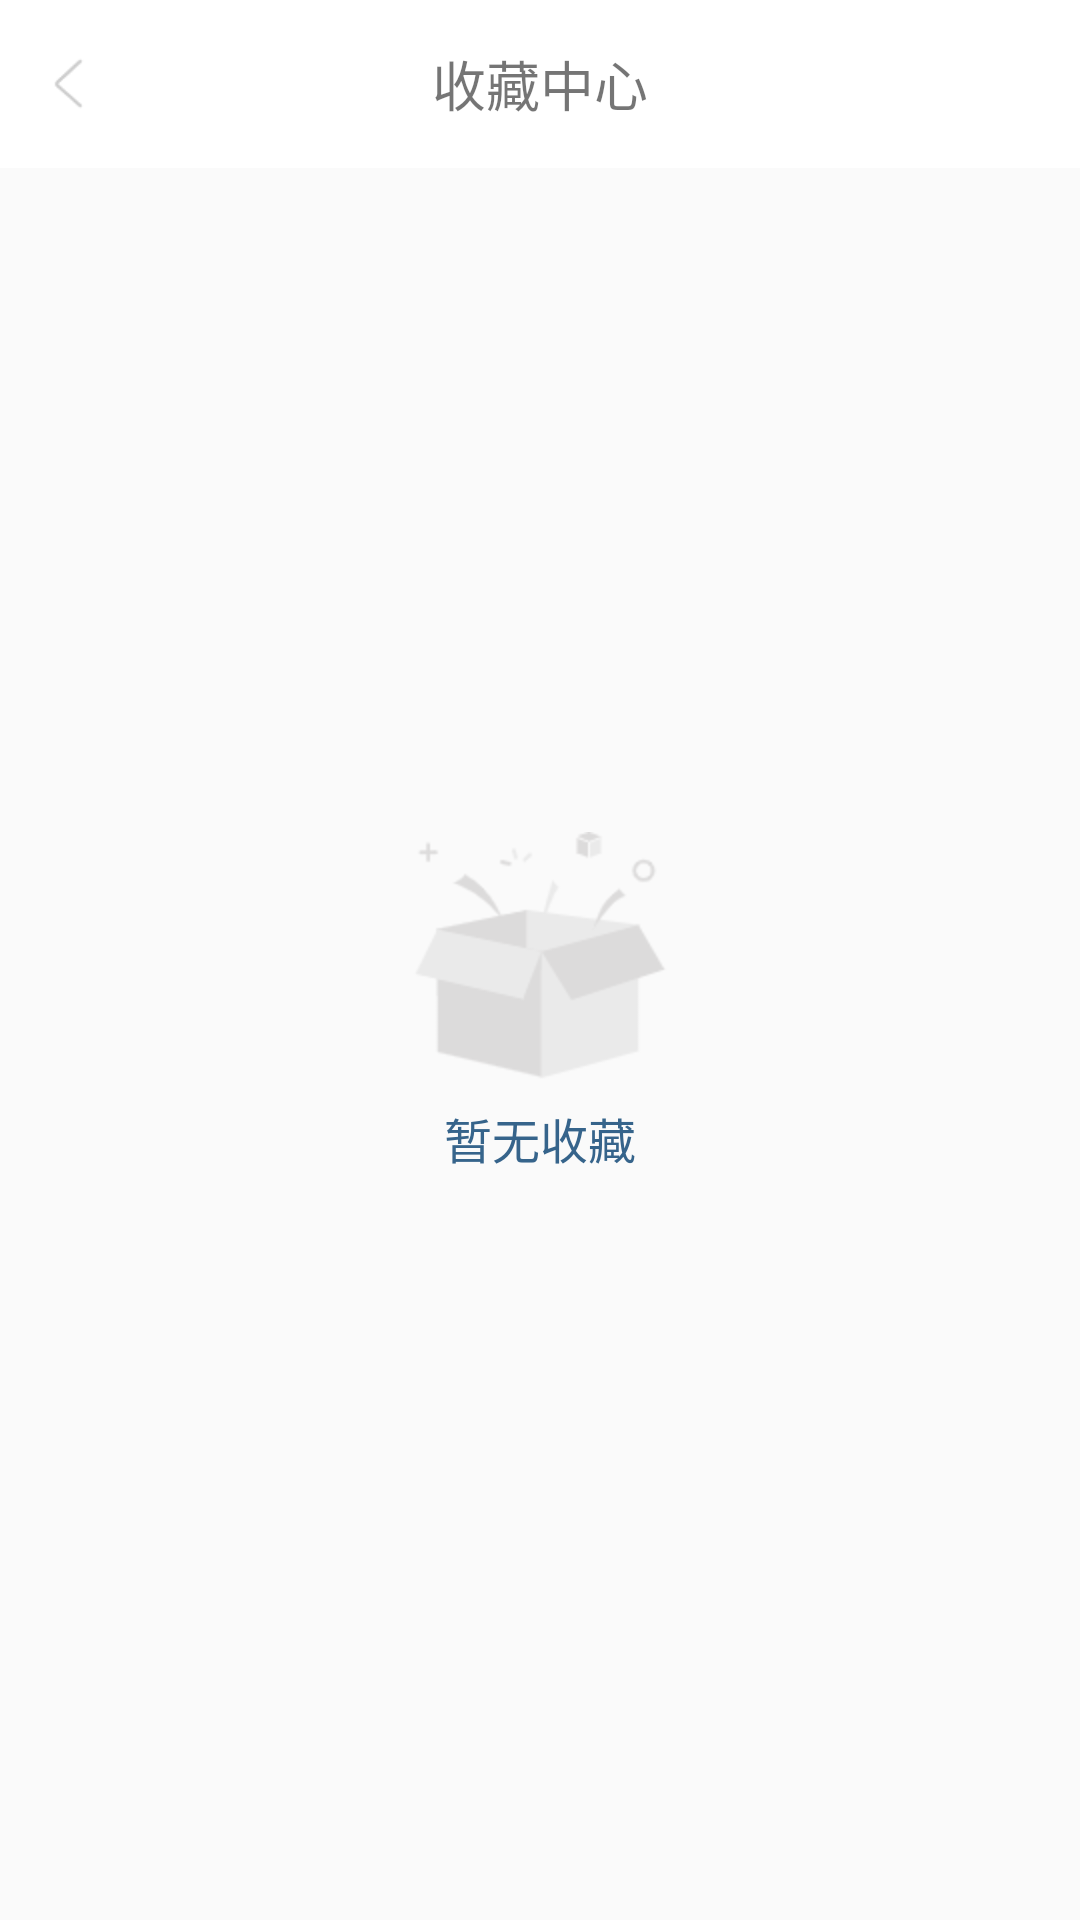

Where to tap for icons on this 1080w x 1920h app screen, as [x,y]:
back: [68,83]
